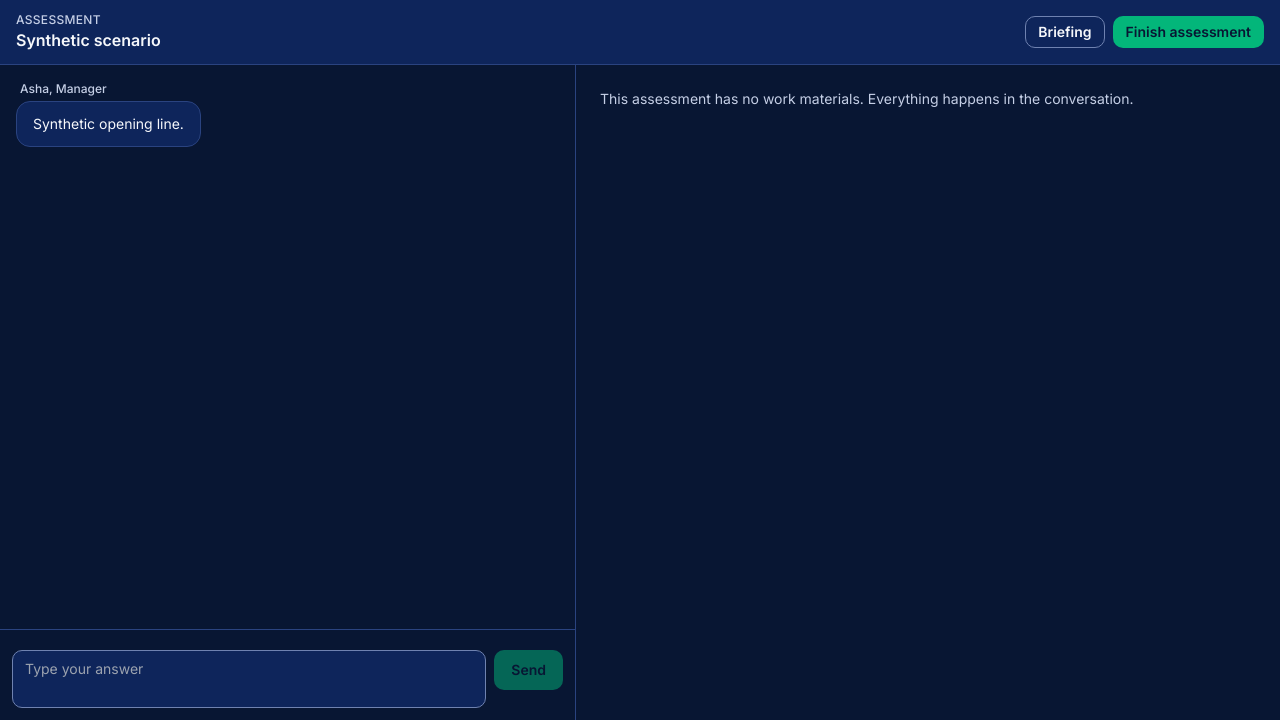
Test: AssessmentWorkspace (fail closed) › a failed send keeps the draft and says "Not sent — retry"; no dialogue is invented
Expected: the text "Synthetic opening line." is shown, [16,101,201,147]
Type "My synthetic answer" into the text box with placeholder "Type your answer" at [249, 679], box [12,650,486,708]
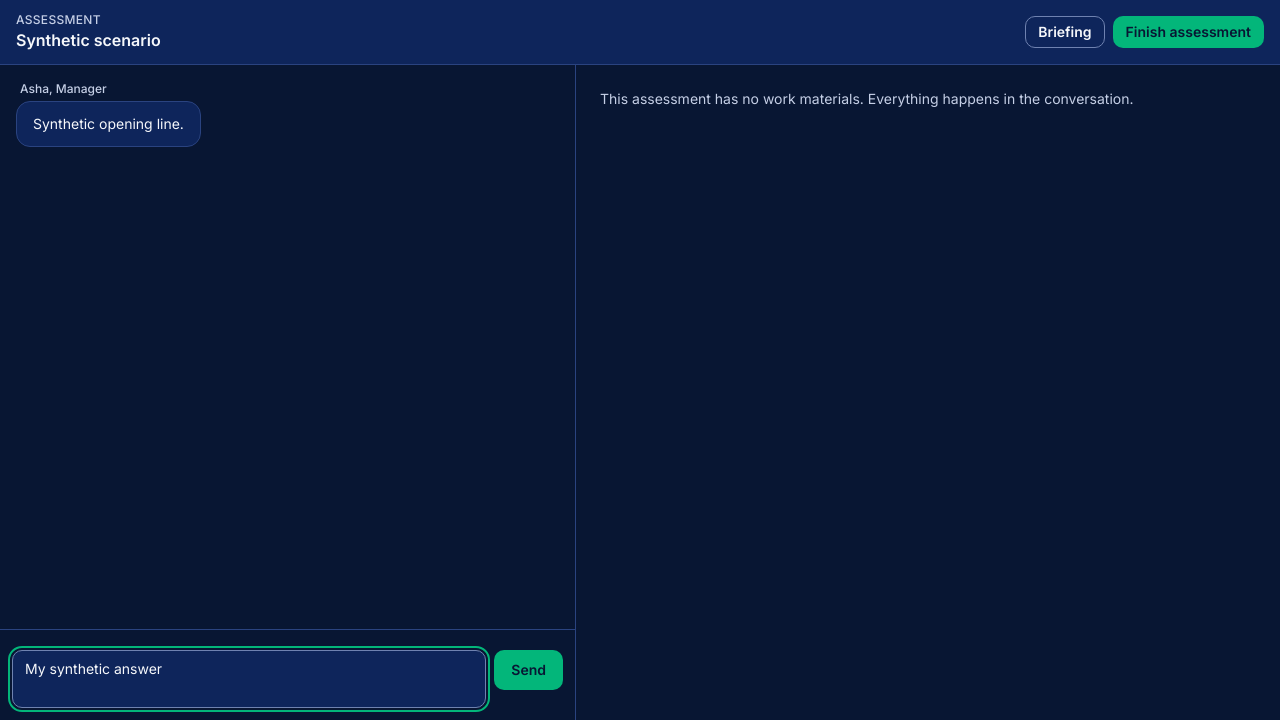
Click the button "Send" at [529, 670], box [494,650,563,690]
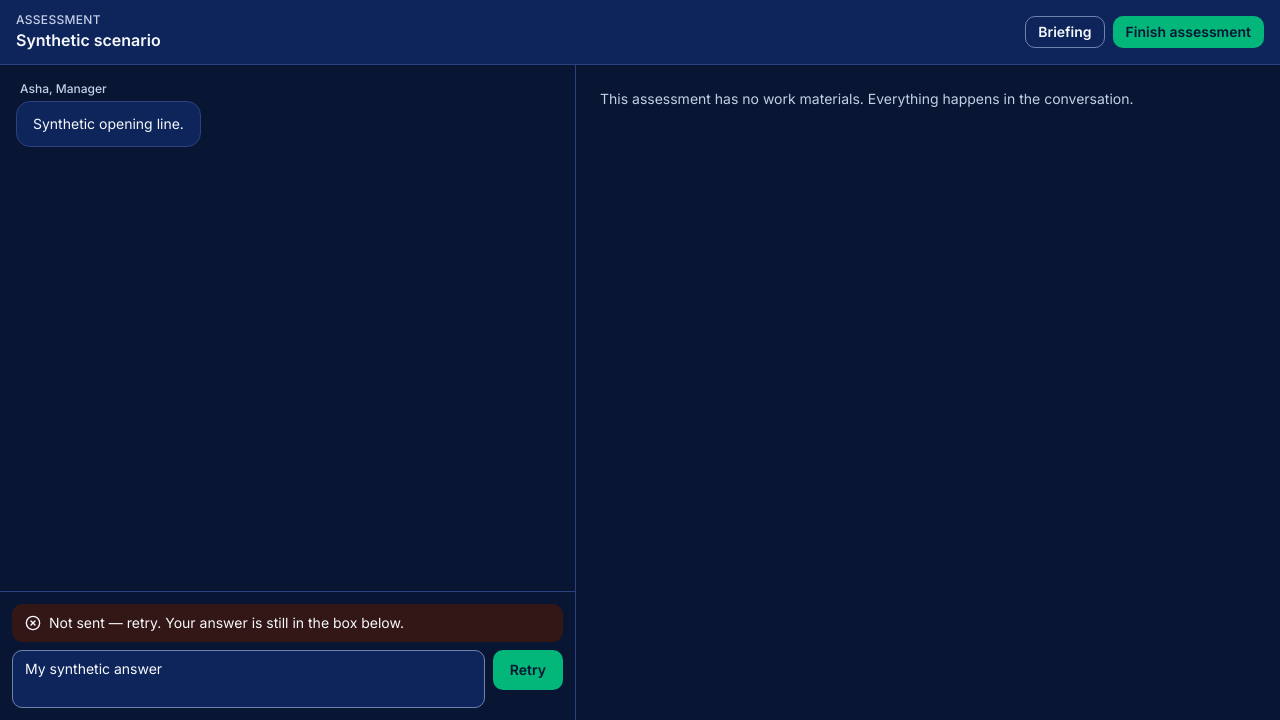
Expected: the text "Synthetic opening line." is shown once, [16,101,201,147]
Expected: the text "Not sent — retry. Your answer is still in the box below." is shown, [49,613,404,633]
Expected: the button "Retry" is shown, [493,650,563,690]
